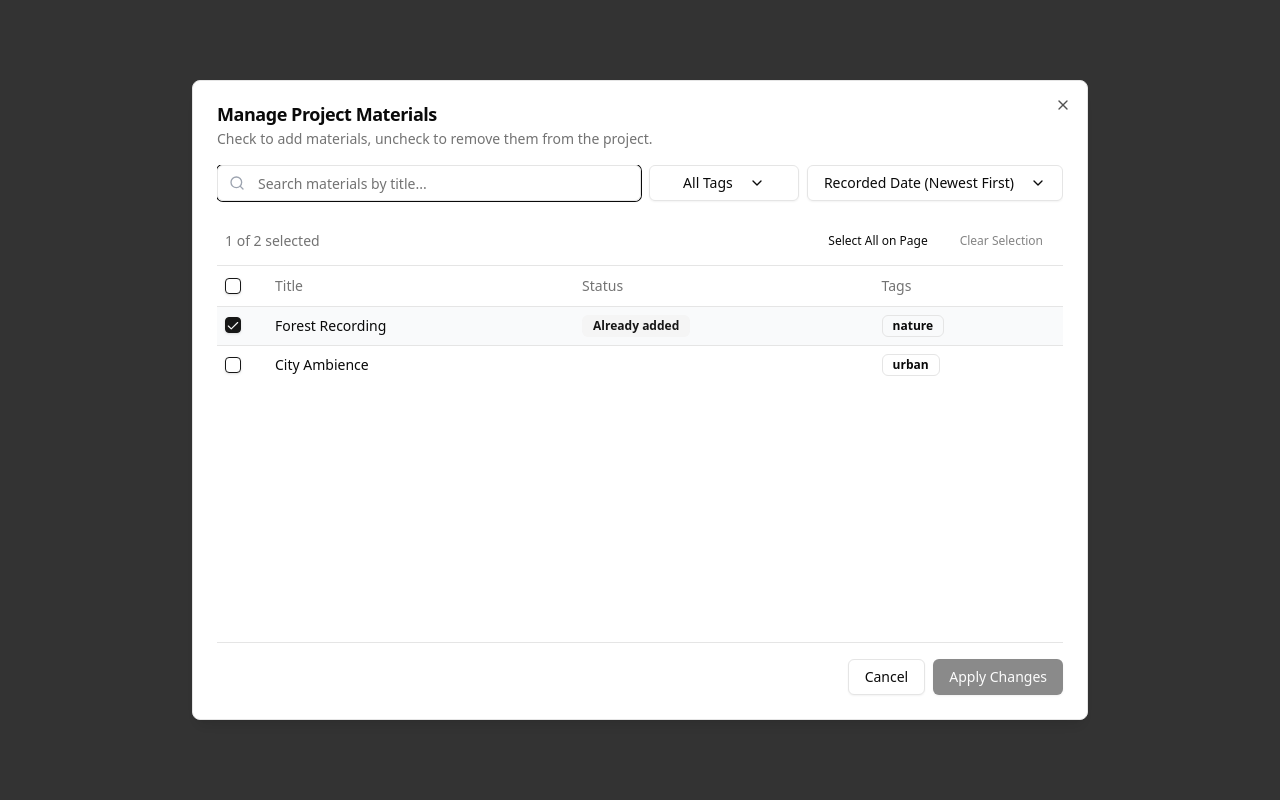
Test: ManageMaterialsModal › should display correct status badges
The width and height of the screenshot is (1280, 800).
Expected: the text "Already added" is shown, [582,314,690,336]
// Toggle first material (remove it)
Step 1. Click the checkbox next to "Forest Recording" → click(233, 324), box [225,316,241,332]
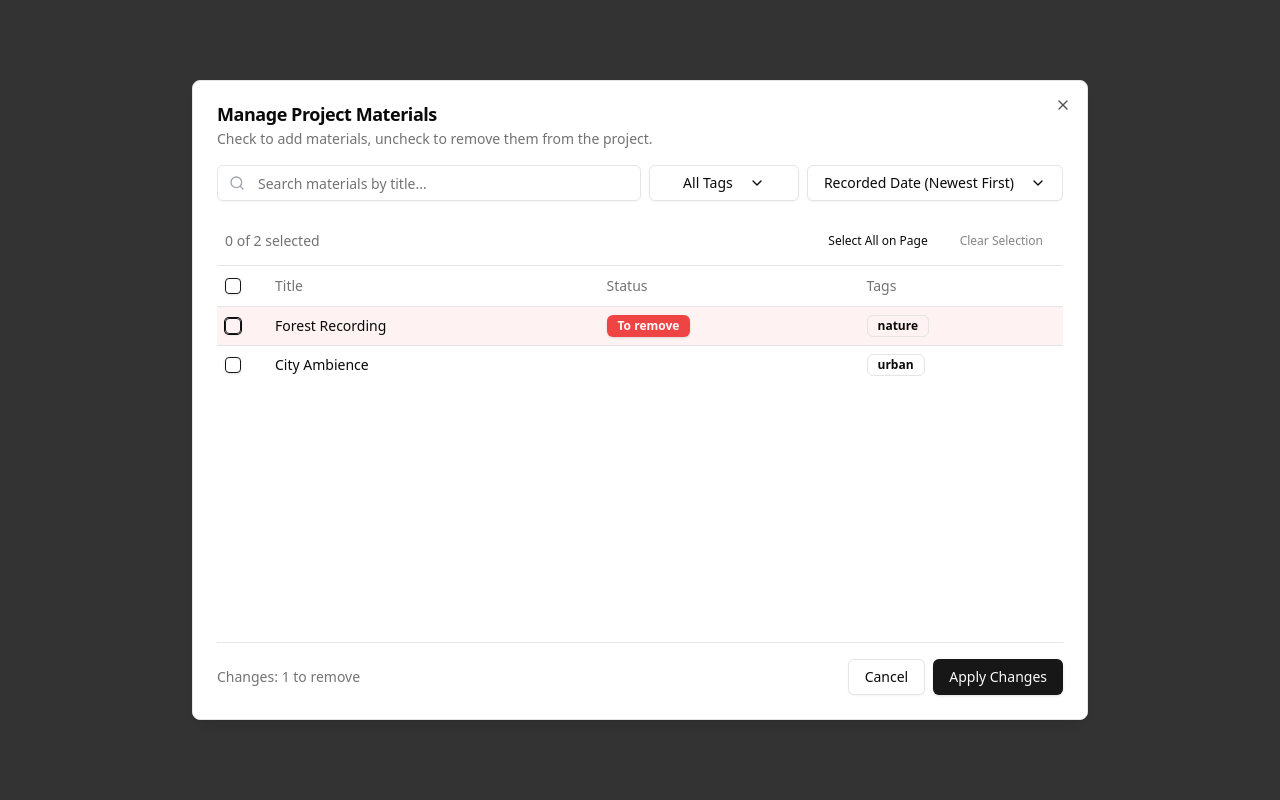
Expected: the text "To remove" is shown, [606,314,690,336]
// Toggle second material (add it)
Step 2. Click the checkbox next to "City Ambience" → click(233, 364), box [225,356,241,372]
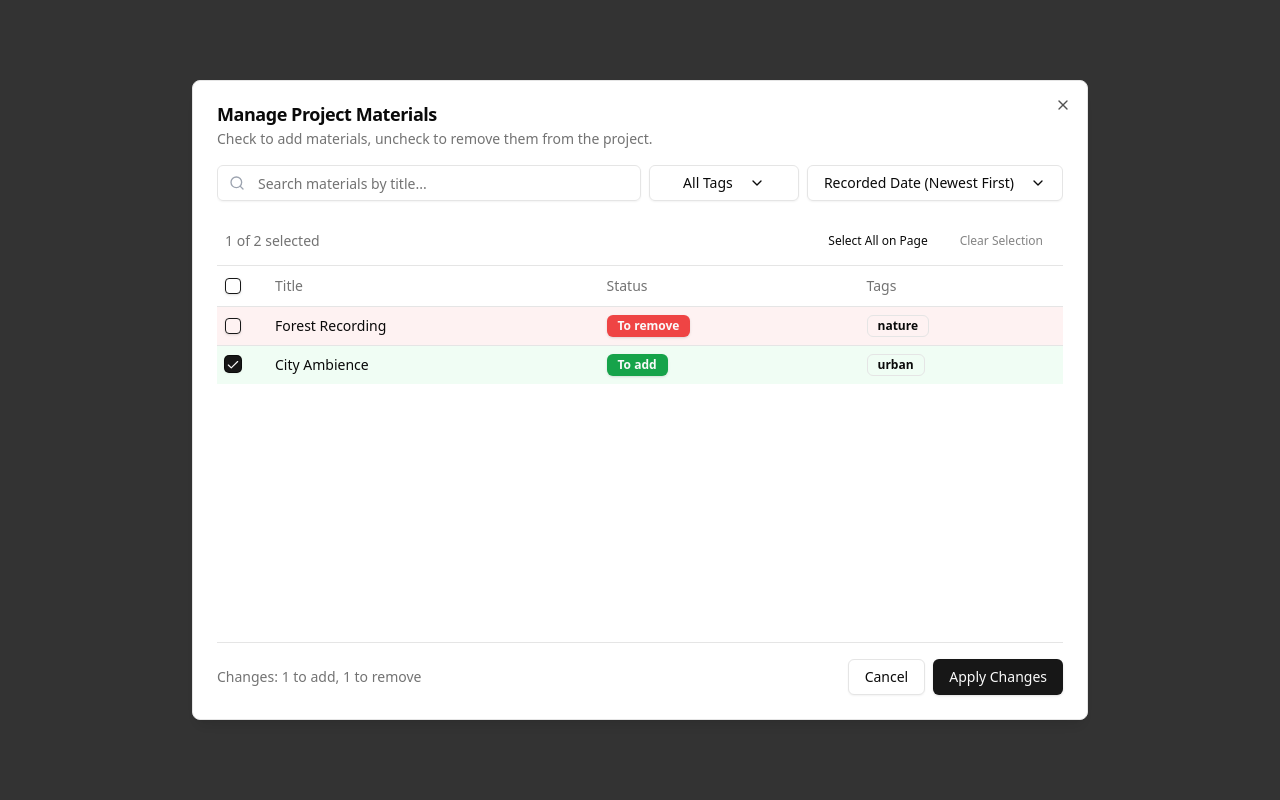
Expected: the text "To add" is shown, [606,354,668,376]
